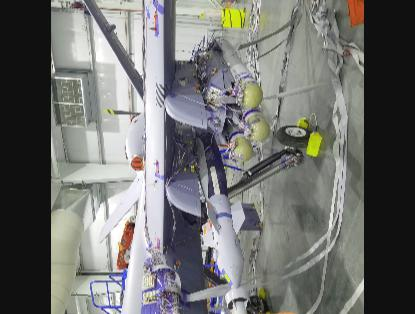MQ9: (60, 0, 313, 313)
